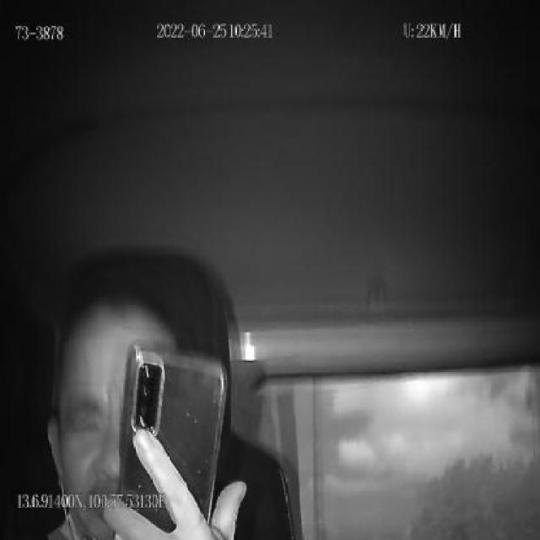phone: (114, 345, 228, 540)
